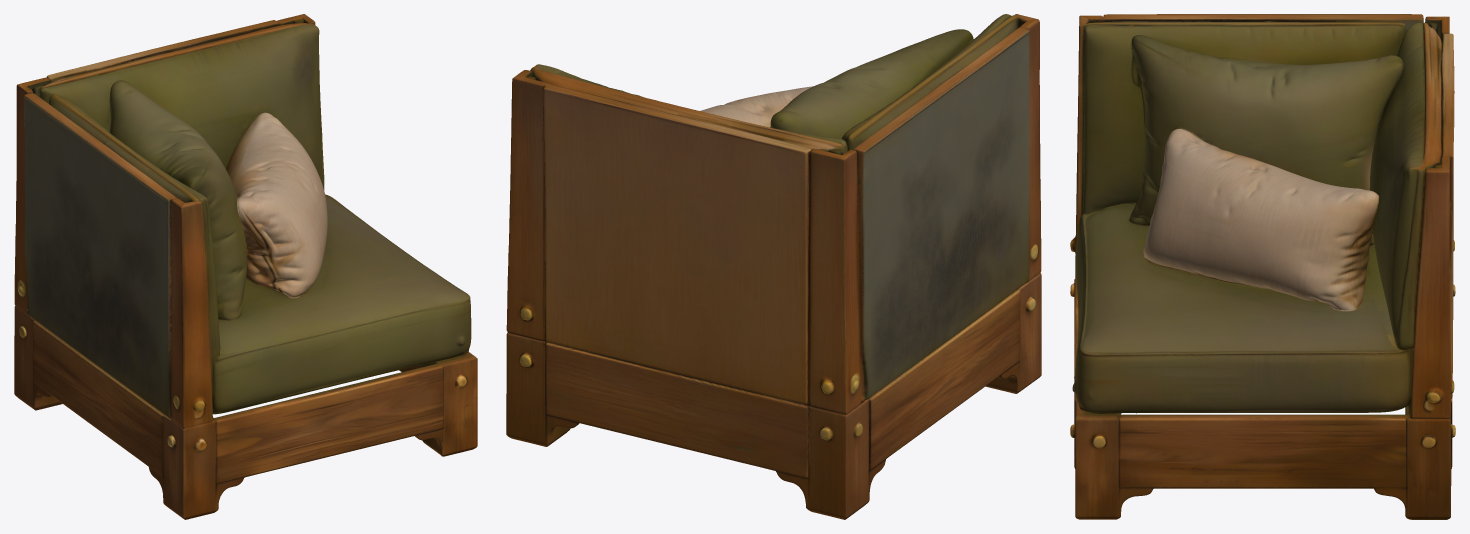
The model's file is chair.glb.
3 views of the same model, side by side, from view 1: azimuth 30°, elevation 25°; view 2: azimuth 150°, elevation 25°; view 3: azimuth 270°, elevation 25° (orthographic). The views are drawn at different scales.
Parts seen in each view (by area): view 1: tripo_node_cea6c1d1-019c-4944-be4f-36efb1dd8912; view 2: tripo_node_cea6c1d1-019c-4944-be4f-36efb1dd8912; view 3: tripo_node_cea6c1d1-019c-4944-be4f-36efb1dd8912.
Part boxes in pixels (x1=…): tripo_node_cea6c1d1-019c-4944-be4f-36efb1dd8912: x1=14, y1=14, x2=477, y2=519; tripo_node_cea6c1d1-019c-4944-be4f-36efb1dd8912: x1=506, y1=14, x2=1041, y2=519; tripo_node_cea6c1d1-019c-4944-be4f-36efb1dd8912: x1=1070, y1=14, x2=1455, y2=519.
Bounding box in the file's own units: 0.994 × 1 × 0.9928.
1 material, 1 textured.
